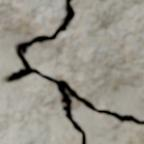brick: (26, 0, 143, 119), (0, 0, 81, 143), (73, 100, 143, 143)
crack: (1, 0, 143, 143)
